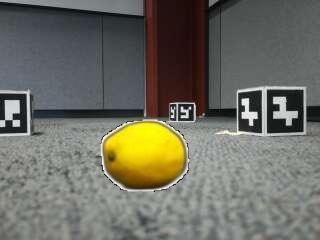lemon: (103, 123, 185, 189)
